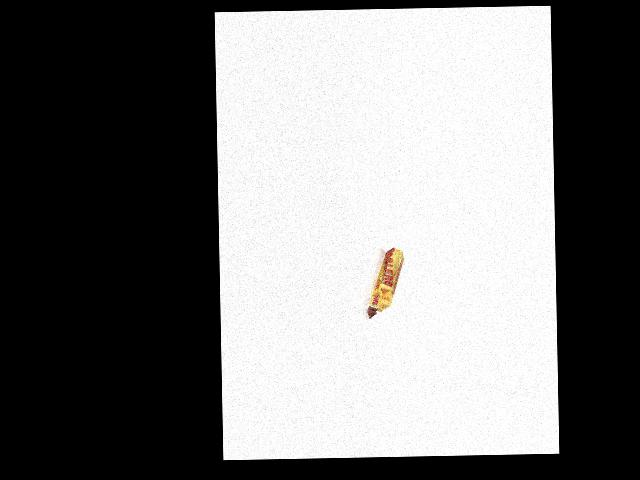chocolate: (362, 248, 406, 319)
